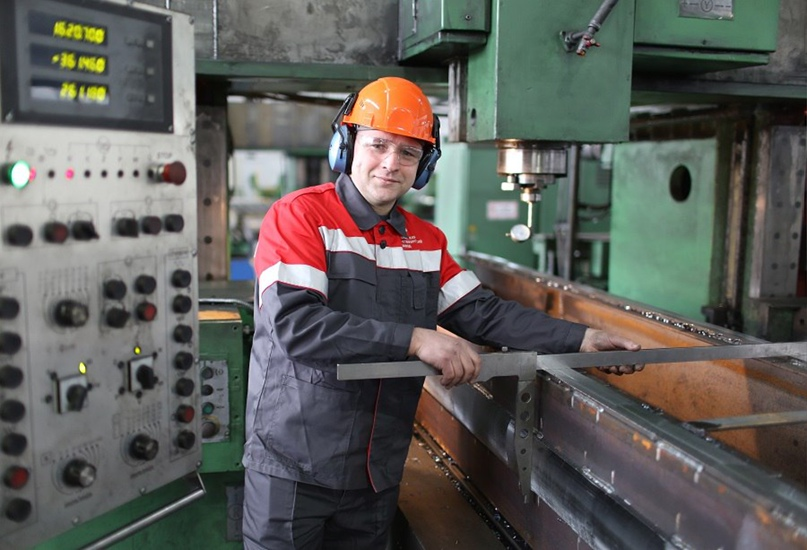person: (242, 77, 647, 550)
